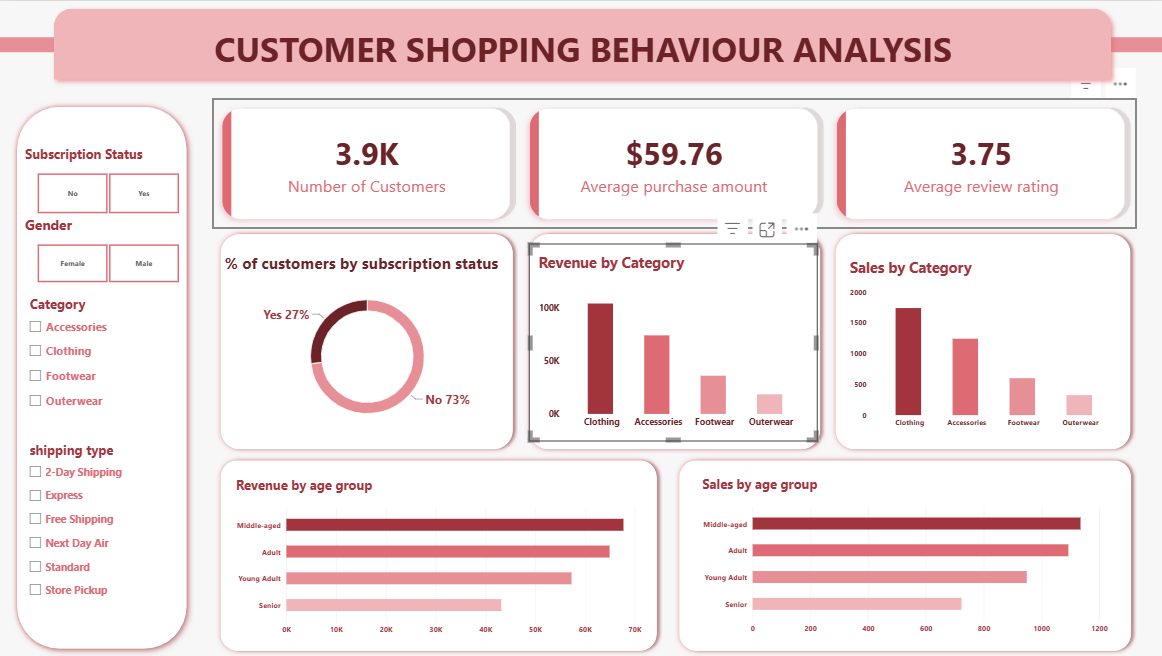

Layout of this report page (visuals, bound fields, positions):
{"tool":"powerbi","page":{"name":"Page 1","canvas":[1920,1080],"ordinal":0},"visuals":[{"type":"cardVisual","fields":{"Data":["public customer.Number of Customers","public customer.Average purchase amount","public customer.Average review rating"]},"box":[350.8,159.9,1520.8,215.4],"z":0},{"type":"shape","box":[0,59.7,354,24.7],"z":1000},{"type":"shape","box":[1556.5,59.7,363.9,24.7],"z":2000},{"type":"shape","box":[353,375.2,499.5,373],"z":3000},{"type":"shape","box":[861.4,375.2,497.3,373],"z":4000},{"type":"shape","box":[1367.6,375.2,504,373],"z":5000},{"type":"shape","box":[77,0,1766,142],"z":6000},{"type":"textbox","box":[351.7,39.1,1216.5,78.2],"z":7000},{"type":"donutChart","title":"% of customers by subscription status","fields":{"Category":["public customer.subscription_status"],"Y":["public customer.Number of Customers"]},"box":[353,399.6,501.8,324.1],"z":8000},{"type":"columnChart","title":"Revenue by Category","fields":{"Category":["public customer.category"],"Y":["Sum(public customer.purchase_amount)"]},"box":[870.7,399.3,475.5,325.2],"z":9000},{"type":"columnChart","title":"Sales by Category","fields":{"Category":["public customer.category"],"Y":["public customer.Number of Customers"]},"box":[1383.2,407.5,473.4,314.9],"z":10000},{"type":"shape","box":[14.9,159.7,306.6,919.8],"z":11000},{"type":"slicer","title":"Subscription Status","fields":{"Values":["public customer.subscription_status"]},"box":[40.5,236.3,272.5,115],"z":12000},{"type":"slicer","fields":{"Values":["public customer.category"]},"box":[40.5,483.3,251.1,284],"z":13000},{"type":"slicer","title":"Gender","fields":{"Values":["public customer.gender"]},"box":[40.5,351.3,272.5,112.8],"z":14000},{"type":"slicer","fields":{"Values":["public customer.shipping_type"]},"box":[40.5,723.9,210.8,285.3],"z":15000},{"type":"shape","box":[353.4,747.3,736.7,332.1],"z":16000},{"type":"shape","box":[1109.3,747.3,762.2,332.1],"z":17000},{"type":"clusteredBarChart","title":"Revenue by age group","fields":{"Category":["public customer.age_group"],"Y":["Sum(public customer.purchase_amount)"]},"box":[372.6,767.8,699.8,296.4],"z":18000},{"type":"clusteredBarChart","title":"Sales by age group","fields":{"Category":["public customer.age_group"],"Y":["public customer.Number of Customers"]},"box":[1140.3,765.7,699.8,296.4],"z":18001}]}

Visuals, with their boxes in screenshot pixels (x1, y1, x2, y2), scaled from the page's 1920x1080 canvas onto the 1162x656 screenshot:
cardVisual - public customer.Number of Customers x public customer.Average purchase amount: Rect(212, 97, 1133, 228)
shape: Rect(0, 36, 214, 51)
shape: Rect(942, 36, 1161, 51)
shape: Rect(214, 228, 516, 454)
shape: Rect(521, 228, 822, 454)
shape: Rect(828, 228, 1133, 454)
shape: Rect(47, 0, 1115, 86)
textbox: Rect(213, 24, 949, 71)
"% of customers by subscription status" donutChart: Rect(214, 243, 517, 440)
"Revenue by Category" columnChart: Rect(527, 243, 815, 440)
"Sales by Category" columnChart: Rect(837, 248, 1124, 439)
shape: Rect(9, 97, 195, 655)
"Subscription Status" slicer: Rect(25, 144, 189, 213)
slicer - public customer.category: Rect(25, 294, 176, 466)
"Gender" slicer: Rect(25, 213, 189, 282)
slicer - public customer.shipping_type: Rect(25, 440, 152, 613)
shape: Rect(214, 454, 660, 655)
shape: Rect(671, 454, 1133, 655)
"Revenue by age group" clusteredBarChart: Rect(226, 466, 649, 646)
"Sales by age group" clusteredBarChart: Rect(690, 465, 1114, 645)
